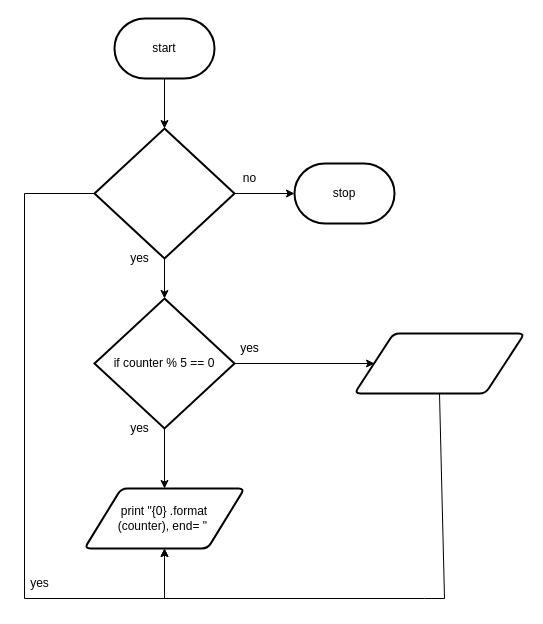
Image size: 543x624. Some labels were removed from this diagram. Here are the shapes that lost their labels. From the top down, the box of each, then its label:
(93, 127, 235, 259): for counter in range(1000, 2001)
(353, 332, 525, 394): print "counter, end="
